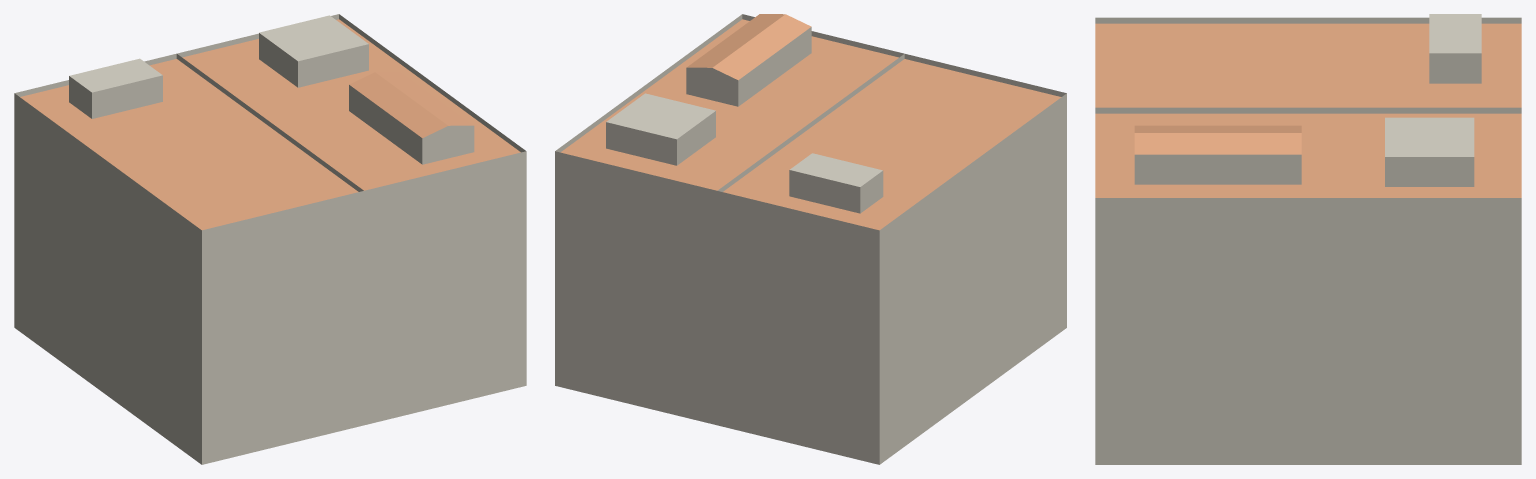
3 renders of one model, left to right at view 1: azimuth 30°, elevation 25°; view 2: azimuth 150°, elevation 25°; view 3: azimuth 270°, elevation 25°, orthographic. The views are drawn at different scales.
Visible parts, largest first — view 1: Object_5, Object_4, Object_8, Object_9, Object_6, Object_7, Object_2, Object_3; view 2: Object_5, Object_4, Object_8, Object_9, Object_6, Object_7, Object_2, Object_3, Object_1; view 3: Object_5, Object_4, Object_8, Object_7, Object_6, Object_9, Object_3, Object_1, Object_2.
Boxes of the visible parts, x1,y1,x2,y2 form: Object_5: (14,14,526,464); Object_4: (20,19,520,230); Object_8: (259,15,368,87); Object_9: (69,58,162,118); Object_6: (349,72,473,138); Object_7: (349,85,474,164); Object_2: (14,14,526,234); Object_3: (176,54,363,191); Object_5: (555,14,1066,464); Object_4: (560,19,1061,230); Object_8: (606,93,715,165); Object_9: (789,153,883,213); Object_6: (687,14,811,80); Object_7: (686,27,811,106); Object_2: (555,15,1066,234); Object_3: (717,54,904,191); Object_1: (718,54,904,191); Object_5: (1095,17,1521,464); Object_4: (1095,23,1521,197); Object_8: (1385,117,1474,186); Object_7: (1134,154,1301,184); Object_6: (1134,125,1301,154); Object_9: (1429,14,1481,83); Object_3: (1095,107,1521,113); Object_1: (1095,107,1521,113); Object_2: (1096,17,1521,203).
Size of the model in its own units: 1283 by 1283 by 989.
